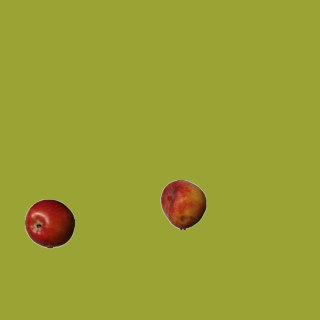Apple Braeburn: (24, 198, 74, 248)
Peach: (158, 179, 208, 229)
